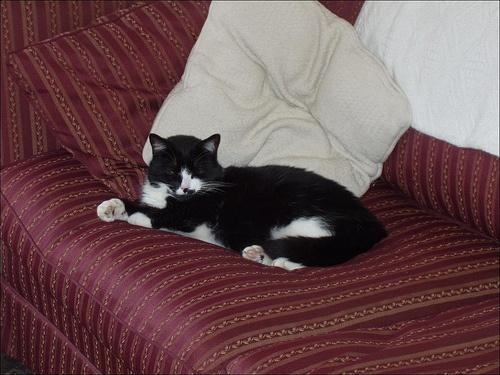cat: (97, 133, 392, 276)
